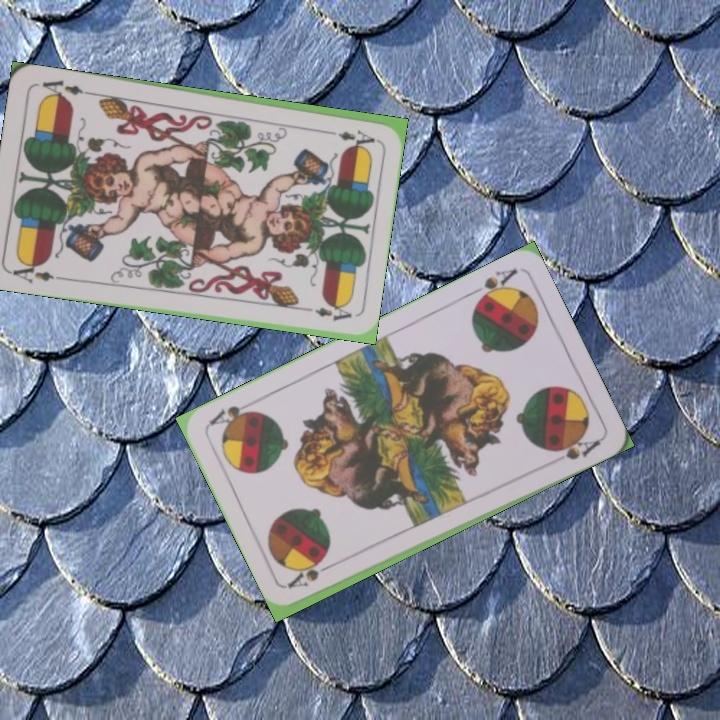EA: (6, 257, 66, 286), (320, 125, 378, 147)
SA: (465, 264, 520, 308), (284, 557, 340, 591)
